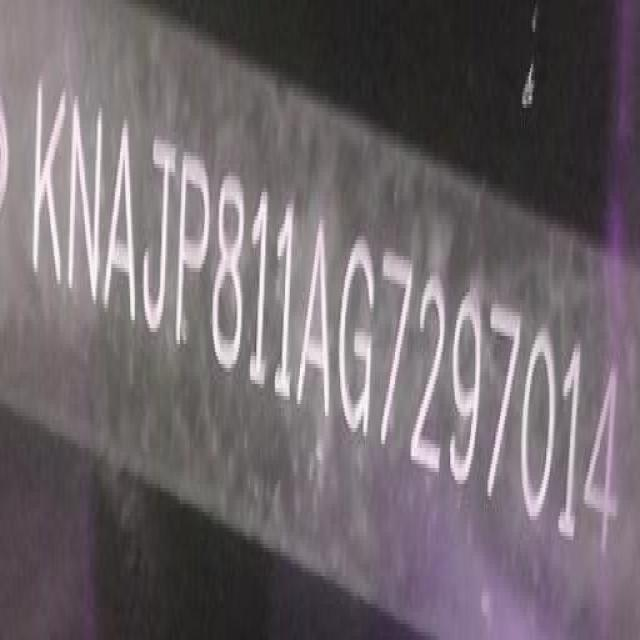0: (522, 316, 559, 533)
1: (249, 188, 277, 402), (556, 330, 584, 541), (273, 193, 296, 413)
2: (411, 264, 449, 488)
4: (583, 345, 627, 549)
7: (486, 292, 523, 515), (380, 241, 416, 465)
8: (212, 174, 246, 382)
9: (450, 285, 486, 496)
A: (298, 205, 338, 430), (105, 114, 141, 331)
G: (337, 228, 380, 450)
J: (144, 127, 176, 347)
K: (31, 81, 67, 283)
N: (66, 88, 103, 302)
P: (177, 146, 213, 365)
